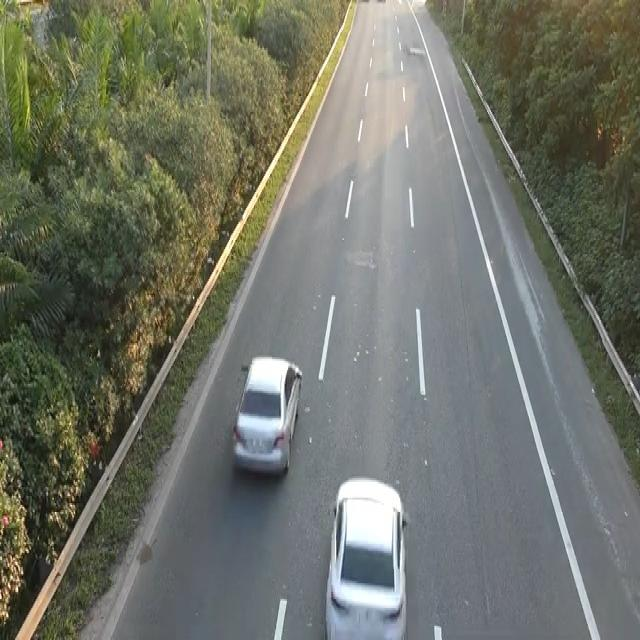bus: (322, 469, 410, 636), (229, 350, 306, 484)
